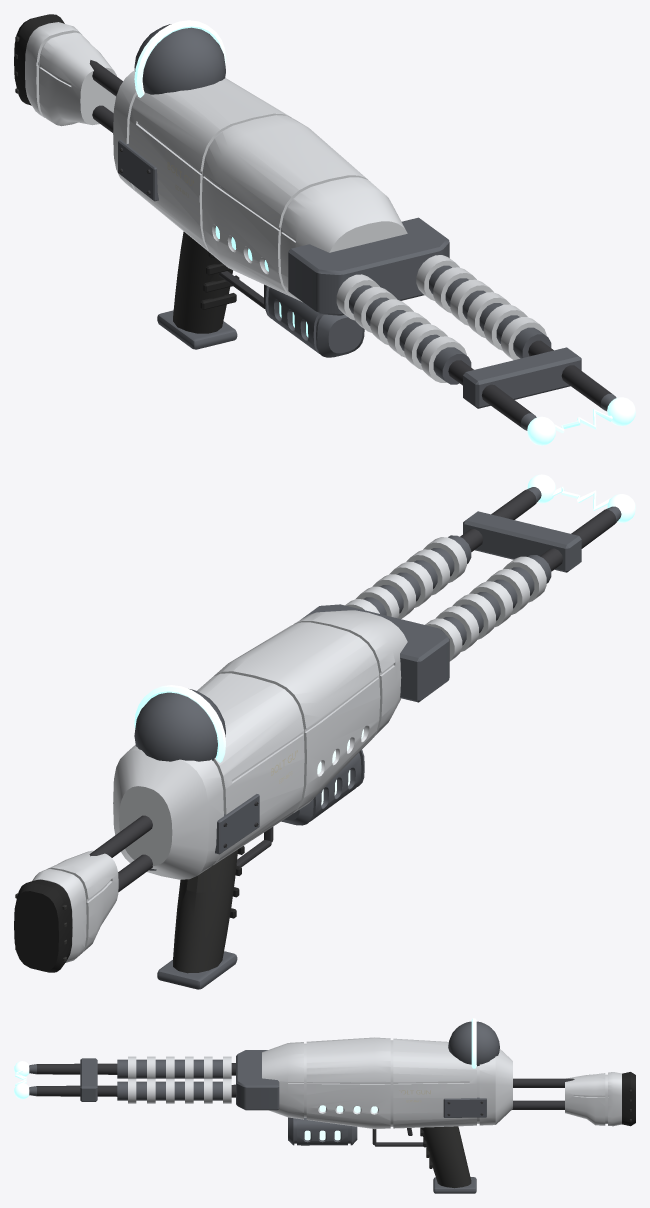
Rendered from boltgun.glb.
The picture shows the model from 3 angles, top to bottom: view 1: azimuth 30°, elevation 25°; view 2: azimuth 150°, elevation 25°; view 3: azimuth 270°, elevation 25°; orthographic projection. The views are drawn at different scales.
Parts seen in each view (by area): view 1: Body; view 2: Body; view 3: Body.
Part boxes in pixels (x1,y1,x2,y2): Body: (14, 14, 635, 445); Body: (14, 474, 635, 989); Body: (14, 1018, 635, 1193).
Bounding box in the file's own units: 0.1 × 0.2138 × 0.7185.
